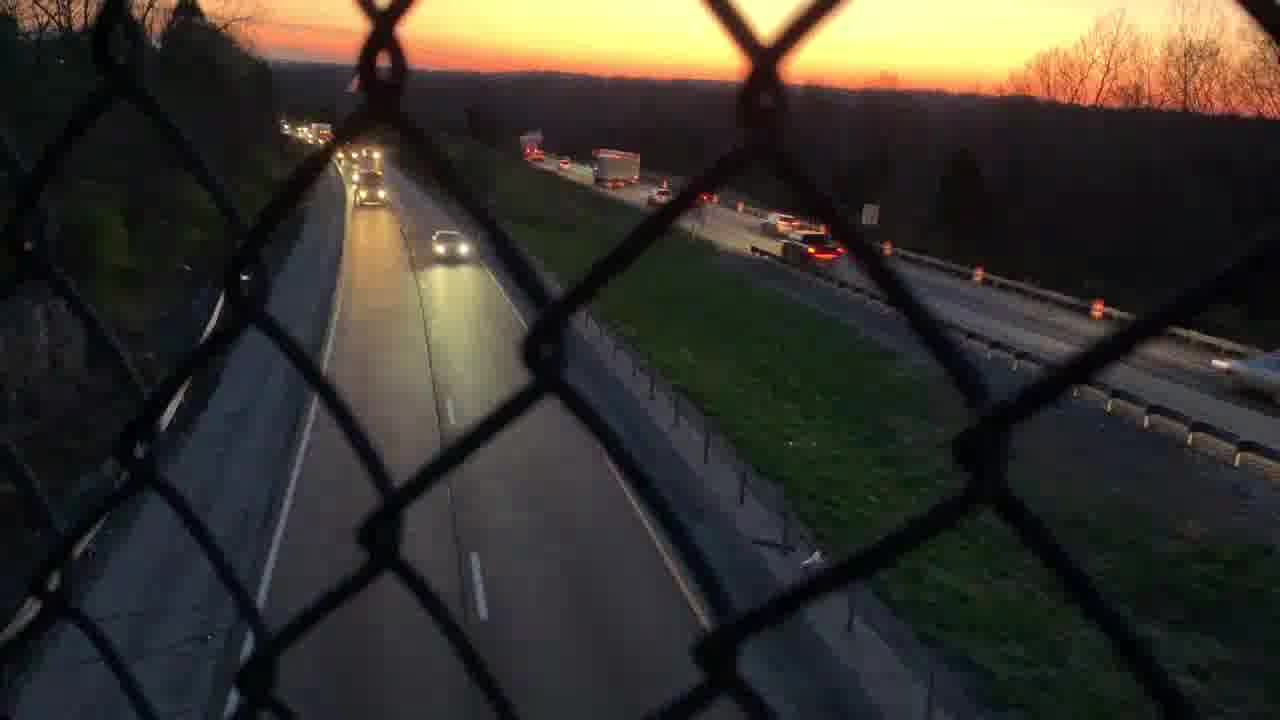largeCar: (782, 228, 841, 271)
smallCar: (427, 228, 474, 264)
